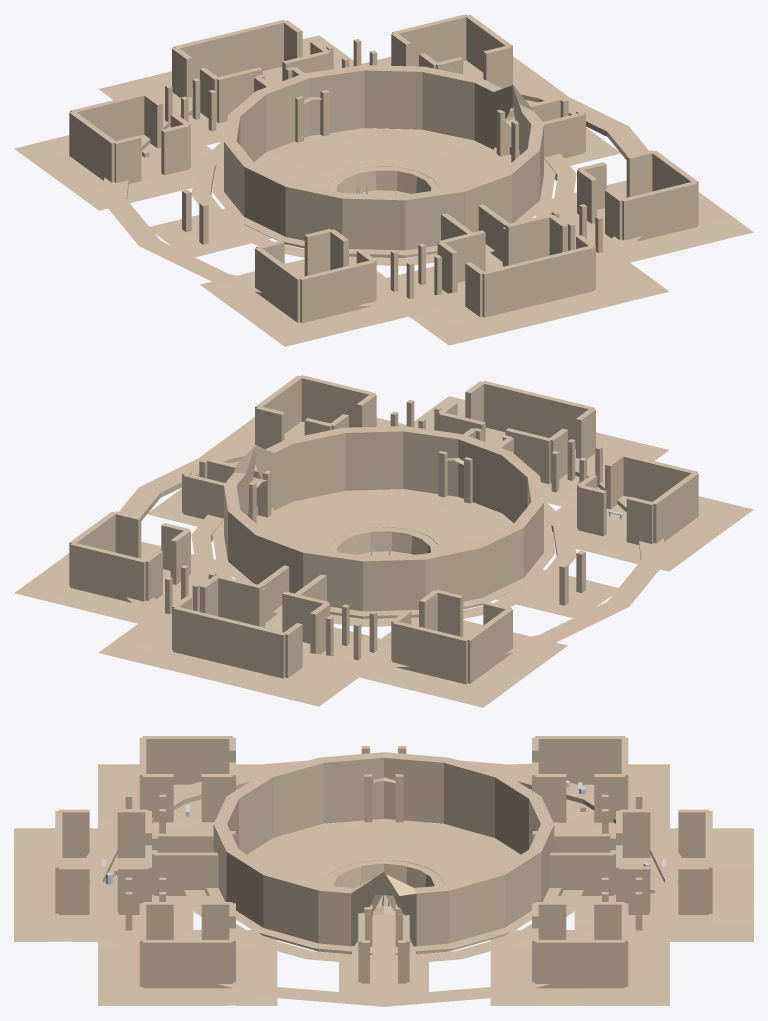
The model's file is combat_arena.glb.
3 renders of one model, top to bottom at view 1: azimuth 30°, elevation 25°; view 2: azimuth 150°, elevation 25°; view 3: azimuth 270°, elevation 25°, orthographic. The views are drawn at different scales.
Parts seen in each view (by area): view 1: ArenaWall, ArenaFloor, Seating_Tier2, MerchantHall_S_Floor, MerchantHall_S_Wall_south, ArmorShop_NW_Floor, TavernShop_SW_Floor, PotionShop_SE_Floor, MerchantHall_N_Wall_north, Seating_Tier1, TavernShop_SW_Wall_south, PotionShop_SE_Wall_south (+38 smaller); view 2: ArenaWall, ArenaFloor, Seating_Tier2, MerchantHall_N_Floor, MerchantHall_N_Wall_north, ArmorShop_NW_Floor, TavernShop_SW_Floor, WeaponShop_NE_Floor, Seating_Tier1, MerchantHall_S_Wall_south, ArmorShop_NW_Wall_north, WeaponShop_NE_Wall_north (+38 smaller); view 3: ArenaWall, Seating_Tier2, ArenaFloor, MerchantHall_S_Floor, MerchantHall_N_Floor, WeaponShop_NE_Floor, PotionShop_SE_Floor, PotionShop_SE_Wall_east, WeaponShop_NE_Wall_east, Seating_Tier1, TavernShop_SW_Wall_west, ArmorShop_NW_Wall_west (+32 smaller).
Boxes of the visible parts, left/top/right/bottom form: ArenaWall: left=224, top=65, right=543, bottom=257; ArenaFloor: left=254, top=128, right=511, bottom=191; Seating_Tier2: left=101, top=64, right=648, bottom=307; MerchantHall_S_Floor: left=376, top=231, right=669, bottom=345; MerchantHall_S_Wall_south: left=481, top=245, right=594, bottom=317; ArmorShop_NW_Floor: left=14, top=126, right=215, bottom=210; TavernShop_SW_Floor: left=200, top=259, right=431, bottom=346; PotionShop_SE_Floor: left=535, top=180, right=753, bottom=262; MerchantHall_N_Wall_north: left=173, top=20, right=286, bottom=88; Seating_Tier1: left=191, top=140, right=576, bottom=265; TavernShop_SW_Wall_south: left=299, top=260, right=375, bottom=323; PotionShop_SE_Wall_south: left=621, top=181, right=697, bottom=241; ArenaWall: left=224, top=426, right=543, bottom=618; ArenaFloor: left=256, top=489, right=513, bottom=552; Seating_Tier2: left=119, top=425, right=666, bottom=668; MerchantHall_N_Floor: left=98, top=608, right=381, bottom=706; MerchantHall_N_Wall_north: left=173, top=606, right=286, bottom=678; ArmorShop_NW_Floor: left=336, top=620, right=567, bottom=707; TavernShop_SW_Floor: left=552, top=496, right=753, bottom=571; WeaponShop_NE_Floor: left=14, top=541, right=232, bottom=628; Seating_Tier1: left=191, top=501, right=576, bottom=626; MerchantHall_S_Wall_south: left=482, top=381, right=594, bottom=449; ArmorShop_NW_Wall_north: left=392, top=621, right=467, bottom=684; WeaponShop_NE_Wall_north: left=70, top=542, right=146, bottom=602; ArenaWall: left=213, top=752, right=554, bottom=954; Seating_Tier2: left=82, top=760, right=685, bottom=1006; ArenaFloor: left=247, top=819, right=520, bottom=945; MerchantHall_S_Floor: left=14, top=828, right=193, bottom=941; MerchantHall_N_Floor: left=574, top=828, right=753, bottom=941; WeaponShop_NE_Floor: left=490, top=930, right=669, bottom=1005; PotionShop_SE_Floor: left=98, top=930, right=277, bottom=1005; PotionShop_SE_Wall_east: left=143, top=940, right=232, bottom=988; WeaponShop_NE_Wall_east: left=535, top=940, right=624, bottom=988; Seating_Tier1: left=184, top=890, right=583, bottom=965; TavernShop_SW_Wall_west: left=143, top=736, right=232, bottom=784; ArmorShop_NW_Wall_west: left=535, top=736, right=624, bottom=784.
Size of what is drawn, in the model's own units: 53.3 by 10.17 by 66.
